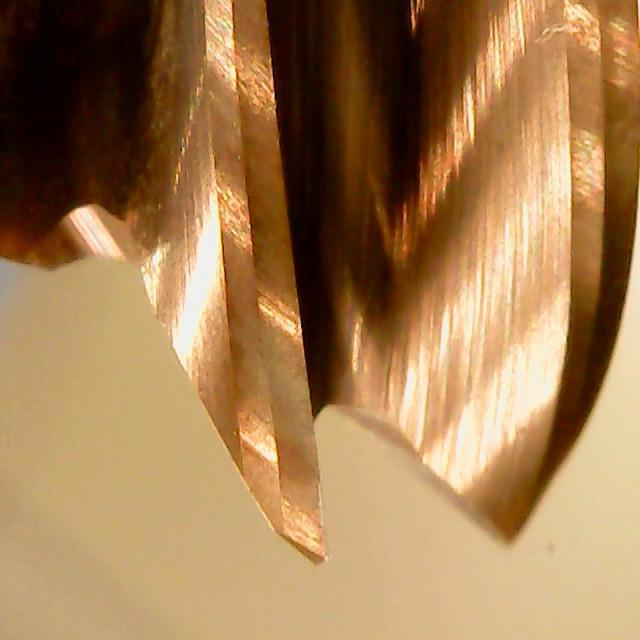Tool-wear-class-0: (224, 248, 337, 568)
